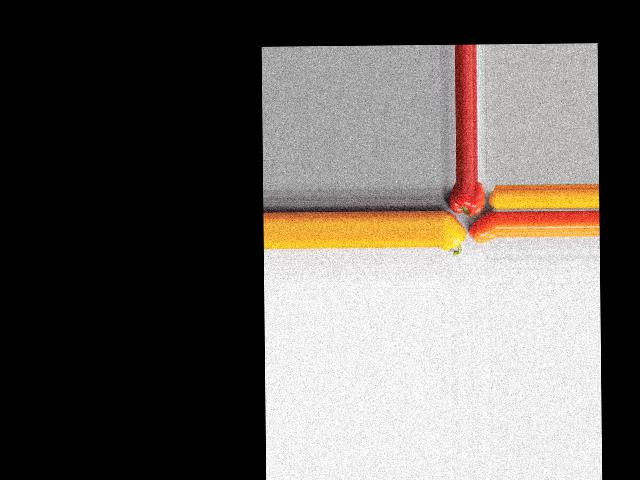bell_pepper: (447, 181, 485, 216)
